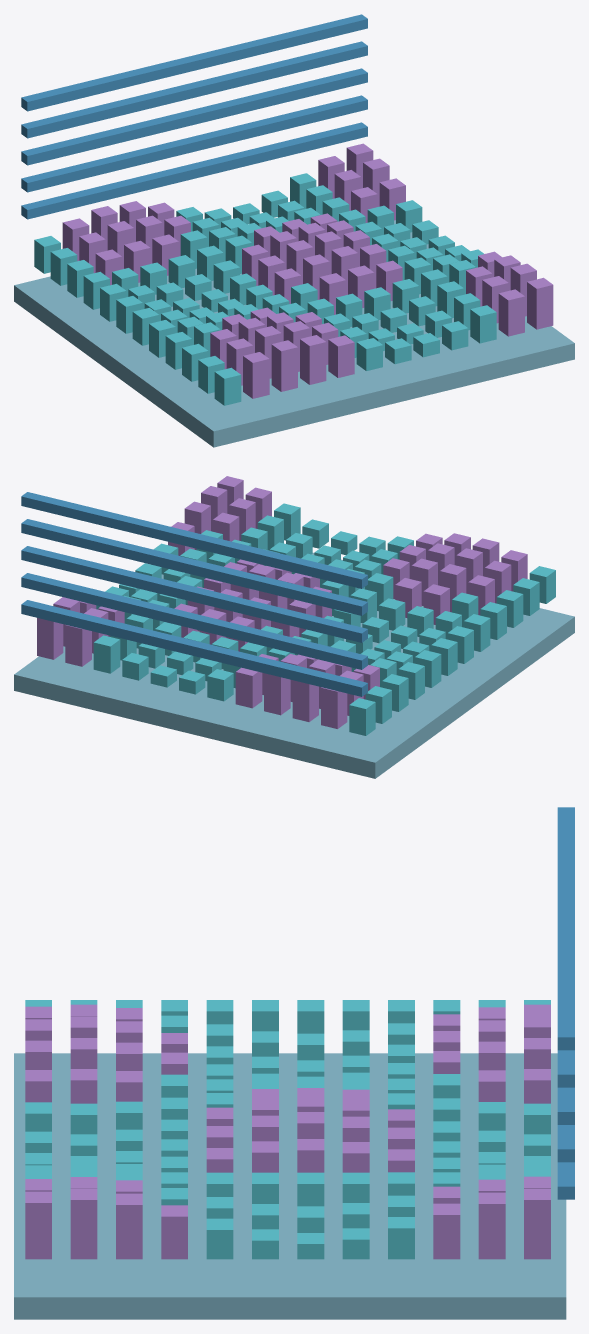
Rendered from 34_L74_WaferTopographyFocusMap.glb.
3 renders of one model, top to bottom at view 1: azimuth 30°, elevation 25°; view 2: azimuth 150°, elevation 25°; view 3: azimuth 270°, elevation 25°, orthographic. The views are drawn at different scales.
Visible parts, largest first — view 1: WaferTopographyFocusMap_Node_0000, WaferTopographyFocusMap_Node_0145, WaferTopographyFocusMap_Node_0147, WaferTopographyFocusMap_Node_0148, WaferTopographyFocusMap_Node_0146, WaferTopographyFocusMap_Node_0149, WaferTopographyFocusMap_Node_0144, WaferTopographyFocusMap_Node_0036, WaferTopographyFocusMap_Node_0048, WaferTopographyFocusMap_Node_0132, WaferTopographyFocusMap_Node_0024, WaferTopographyFocusMap_Node_0060 (+64 smaller); view 2: WaferTopographyFocusMap_Node_0000, WaferTopographyFocusMap_Node_0145, WaferTopographyFocusMap_Node_0147, WaferTopographyFocusMap_Node_0148, WaferTopographyFocusMap_Node_0149, WaferTopographyFocusMap_Node_0146, WaferTopographyFocusMap_Node_0049, WaferTopographyFocusMap_Node_0025, WaferTopographyFocusMap_Node_0121, WaferTopographyFocusMap_Node_0037, WaferTopographyFocusMap_Node_0133, WaferTopographyFocusMap_Node_0013 (+54 smaller); view 3: WaferTopographyFocusMap_Node_0000, WaferTopographyFocusMap_Node_0149, WaferTopographyFocusMap_Node_0143, WaferTopographyFocusMap_Node_0133, WaferTopographyFocusMap_Node_0134, WaferTopographyFocusMap_Node_0144, WaferTopographyFocusMap_Node_0142, WaferTopographyFocusMap_Node_0135, WaferTopographyFocusMap_Node_0141, WaferTopographyFocusMap_Node_0140, WaferTopographyFocusMap_Node_0136, WaferTopographyFocusMap_Node_0059 (+50 smaller).
Part boxes in pixels (left/top/right/bottom): WaferTopographyFocusMap_Node_0000: left=14, top=220, right=574, bottom=447; WaferTopographyFocusMap_Node_0145: left=21, top=122, right=367, bottom=219; WaferTopographyFocusMap_Node_0147: left=21, top=68, right=367, bottom=165; WaferTopographyFocusMap_Node_0148: left=21, top=41, right=367, bottom=138; WaferTopographyFocusMap_Node_0146: left=21, top=95, right=367, bottom=192; WaferTopographyFocusMap_Node_0149: left=21, top=14, right=367, bottom=111; WaferTopographyFocusMap_Node_0144: left=527, top=277, right=553, bottom=329; WaferTopographyFocusMap_Node_0036: left=271, top=340, right=297, bottom=391; WaferTopographyFocusMap_Node_0048: left=300, top=335, right=326, bottom=384; WaferTopographyFocusMap_Node_0132: left=498, top=289, right=524, bottom=336; WaferTopographyFocusMap_Node_0024: left=243, top=352, right=269, bottom=398; WaferTopographyFocusMap_Node_0060: left=328, top=335, right=354, bottom=377; WaferTopographyFocusMap_Node_0000: left=14, top=552, right=574, bottom=778; WaferTopographyFocusMap_Node_0145: left=21, top=600, right=367, bottom=696; WaferTopographyFocusMap_Node_0147: left=21, top=546, right=367, bottom=642; WaferTopographyFocusMap_Node_0148: left=21, top=519, right=367, bottom=615; WaferTopographyFocusMap_Node_0149: left=21, top=492, right=367, bottom=588; WaferTopographyFocusMap_Node_0146: left=21, top=573, right=367, bottom=669; WaferTopographyFocusMap_Node_0049: left=235, top=667, right=262, bottom=708; WaferTopographyFocusMap_Node_0025: left=292, top=680, right=318, bottom=721; WaferTopographyFocusMap_Node_0121: left=65, top=625, right=91, bottom=666; WaferTopographyFocusMap_Node_0037: left=264, top=673, right=290, bottom=715; WaferTopographyFocusMap_Node_0133: left=37, top=618, right=63, bottom=659; WaferTopographyFocusMap_Node_0013: left=321, top=687, right=347, bottom=728; WaferTopographyFocusMap_Node_0000: left=14, top=1053, right=566, bottom=1319; WaferTopographyFocusMap_Node_0149: left=557, top=807, right=574, bottom=1050; WaferTopographyFocusMap_Node_0143: left=70, top=1188, right=97, bottom=1259; WaferTopographyFocusMap_Node_0133: left=524, top=1188, right=550, bottom=1259; WaferTopographyFocusMap_Node_0134: left=478, top=1192, right=505, bottom=1259; WaferTopographyFocusMap_Node_0144: left=25, top=1191, right=51, bottom=1259; WaferTopographyFocusMap_Node_0142: left=116, top=1193, right=142, bottom=1259; WaferTopographyFocusMap_Node_0135: left=433, top=1203, right=460, bottom=1259; WaferTopographyFocusMap_Node_0141: left=161, top=1205, right=187, bottom=1259; WaferTopographyFocusMap_Node_0140: left=206, top=1218, right=233, bottom=1259; WaferTopographyFocusMap_Node_0136: left=388, top=1217, right=414, bottom=1259; WaferTopographyFocusMap_Node_0059: left=70, top=1069, right=97, bottom=1103.
Size of the model in its own units: 1.4 by 0.7375 by 1.36.
